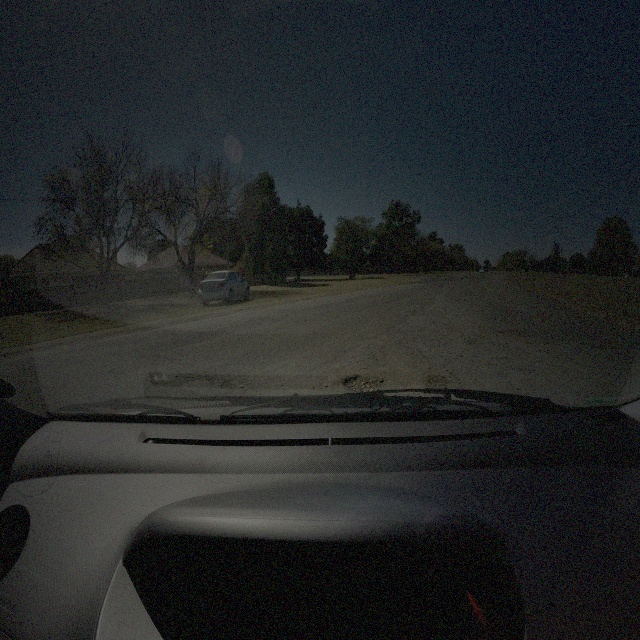pothole: (341, 371, 385, 392), (423, 374, 450, 388)
